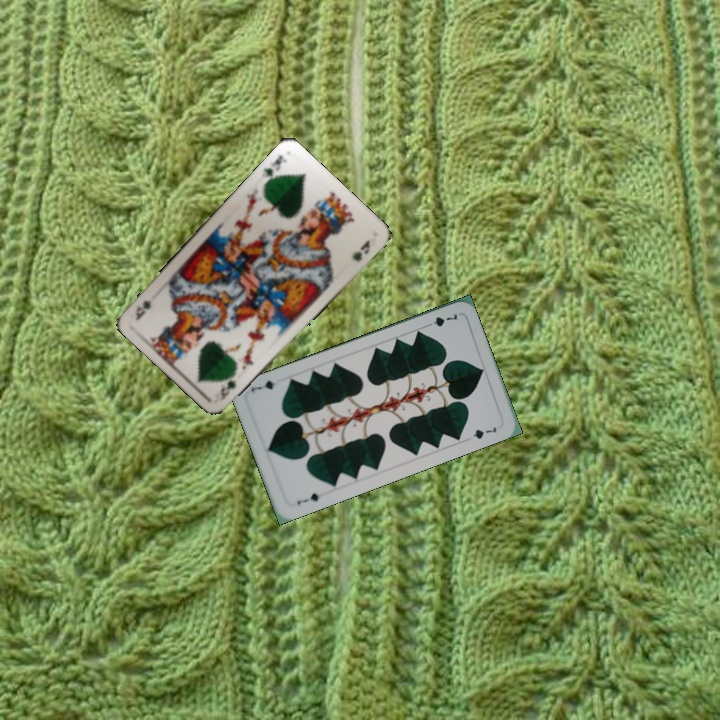G7: (421, 309, 460, 330), (293, 489, 322, 507)
GK: (257, 151, 289, 187), (216, 376, 238, 403)
